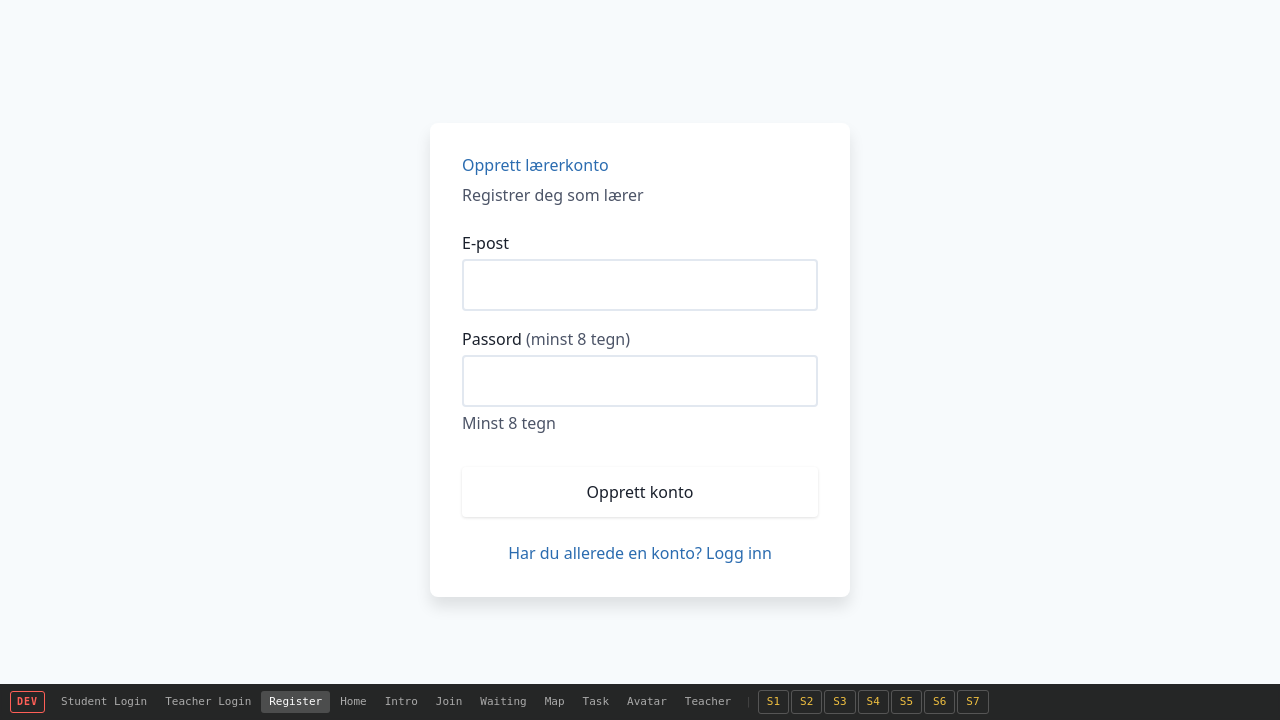
Scenario: Registration › shows validation error for short password
This screenshot has width=1280, height=720.
Type "teacher@test.no" into the field labelled "E-post" at (640, 285), box top-left (462, 259), bottom-right (818, 311)
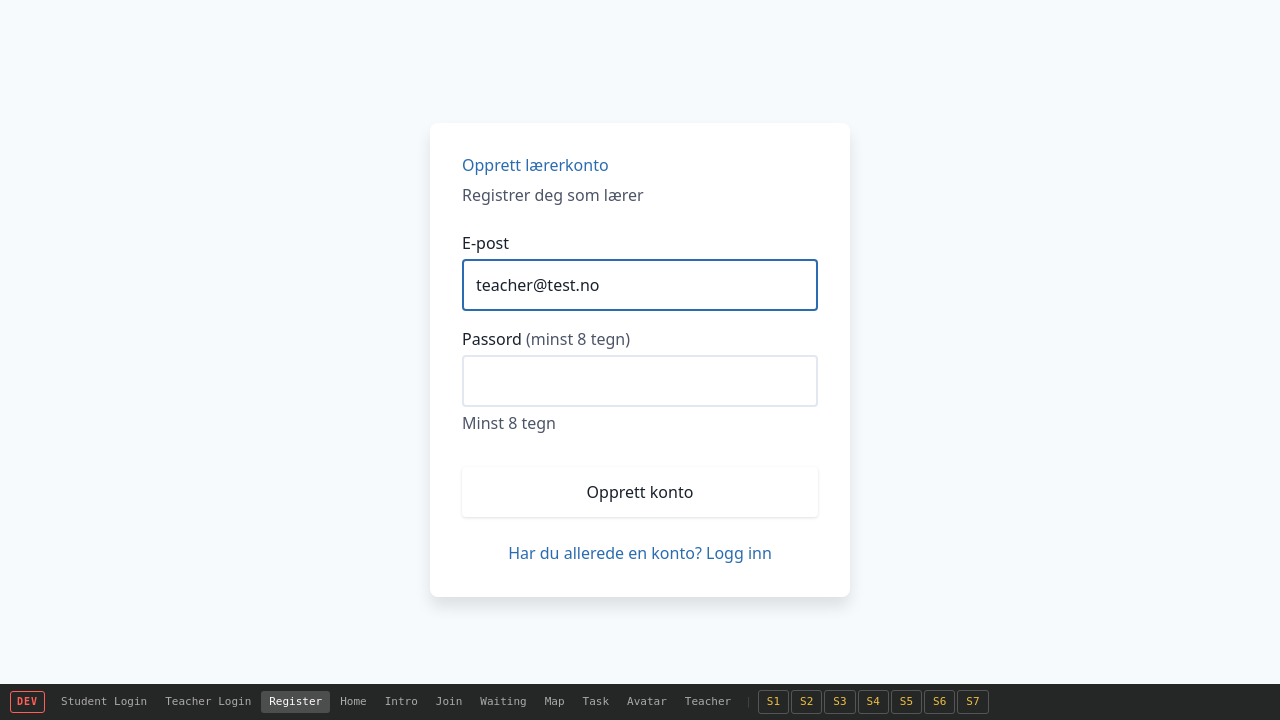
Type "short" into the password field labelled "Passord (minst 8 tegn)" at (640, 381), box top-left (462, 355), bottom-right (818, 407)
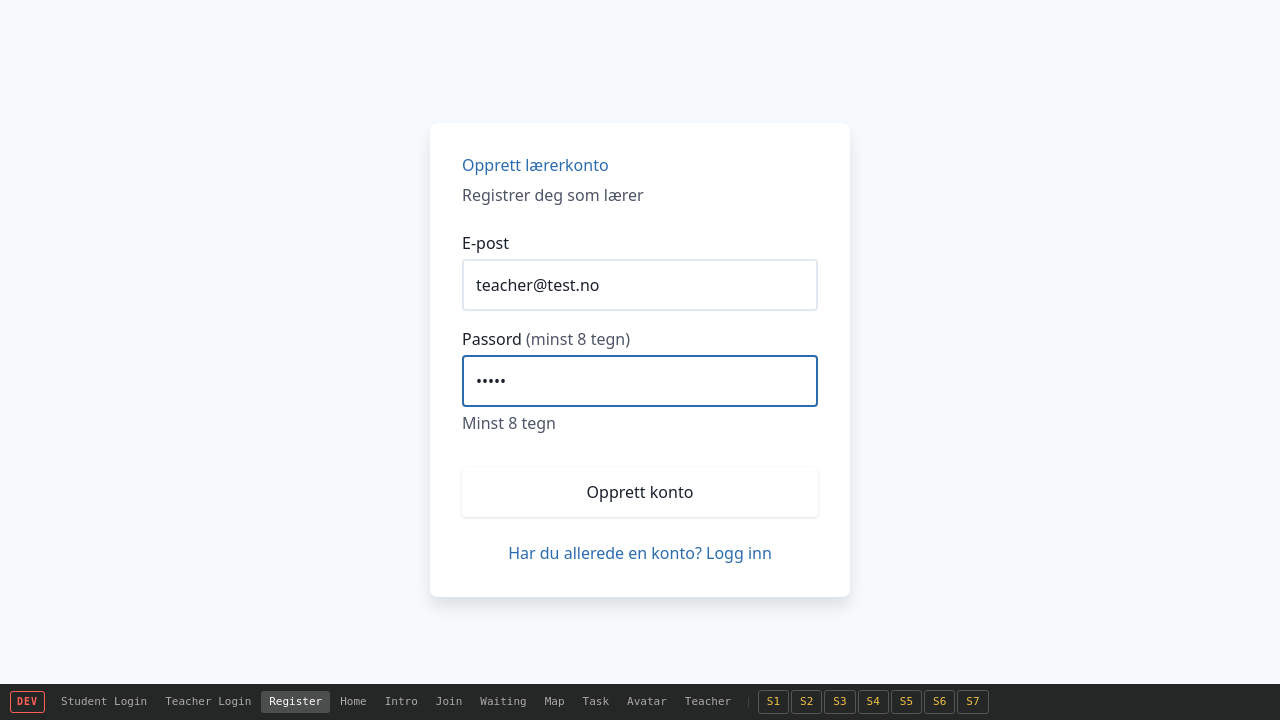
Click the submit button at (640, 492), box top-left (462, 467), bottom-right (818, 517)
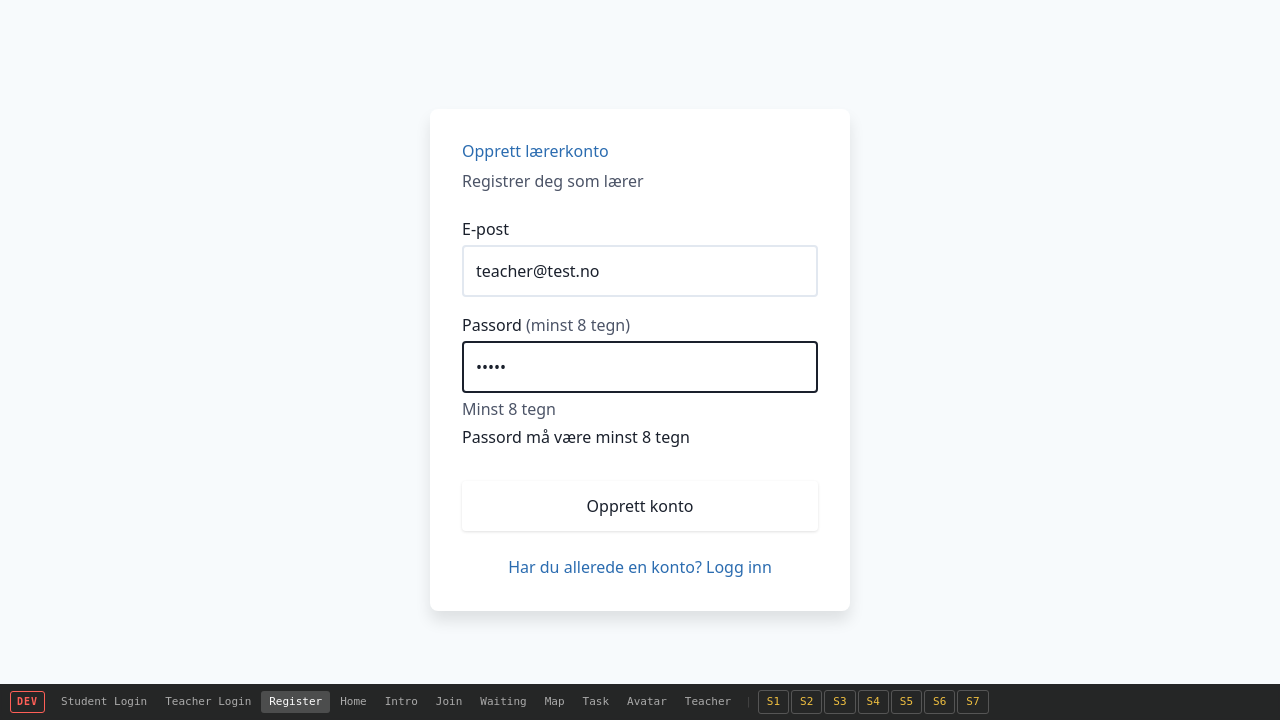
Now the message "Passord må være minst 8 tegn" is shown, box top-left (462, 426), bottom-right (690, 448)
